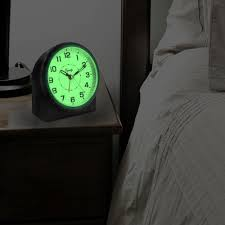alarm_clock: (29, 39, 100, 120)
